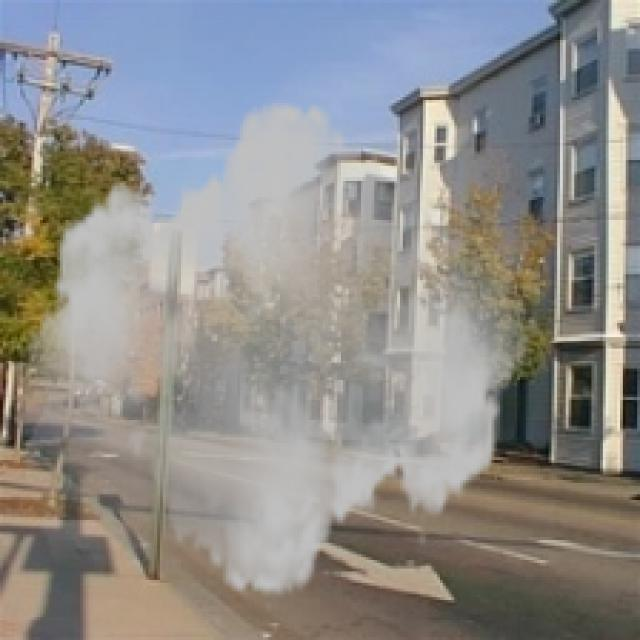Smoke: (14, 80, 540, 617)
